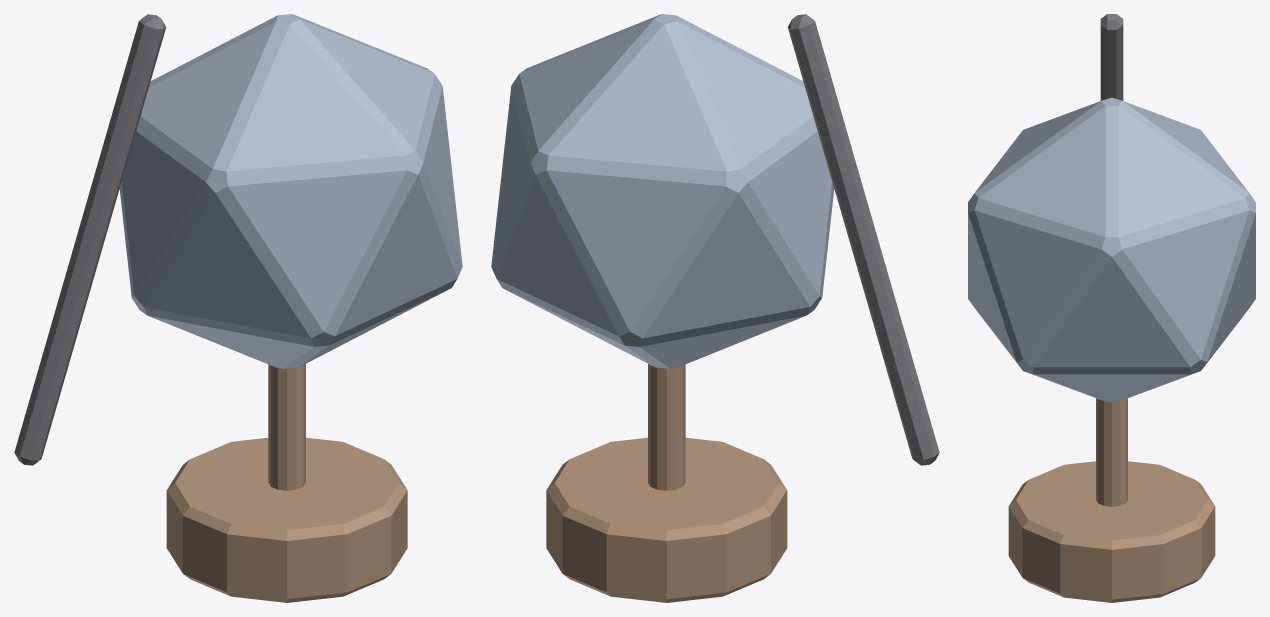
Rendered from SM_Globe.fbx.
3 views of the same model, side by side, from view 1: azimuth 30°, elevation 25°; view 2: azimuth 150°, elevation 25°; view 3: azimuth 270°, elevation 25° (orthographic). The views are drawn at different scales.
Parts seen in each view (by area): view 1: Globe; view 2: Globe; view 3: Globe.
Boxes of the visible parts, x1,y1,x2,y2 form: Globe: (14,14,462,602); Globe: (491,14,939,602); Globe: (968,14,1255,602).
Bounding box in the file's own units: 36.52 × 47.24 × 25.09.
